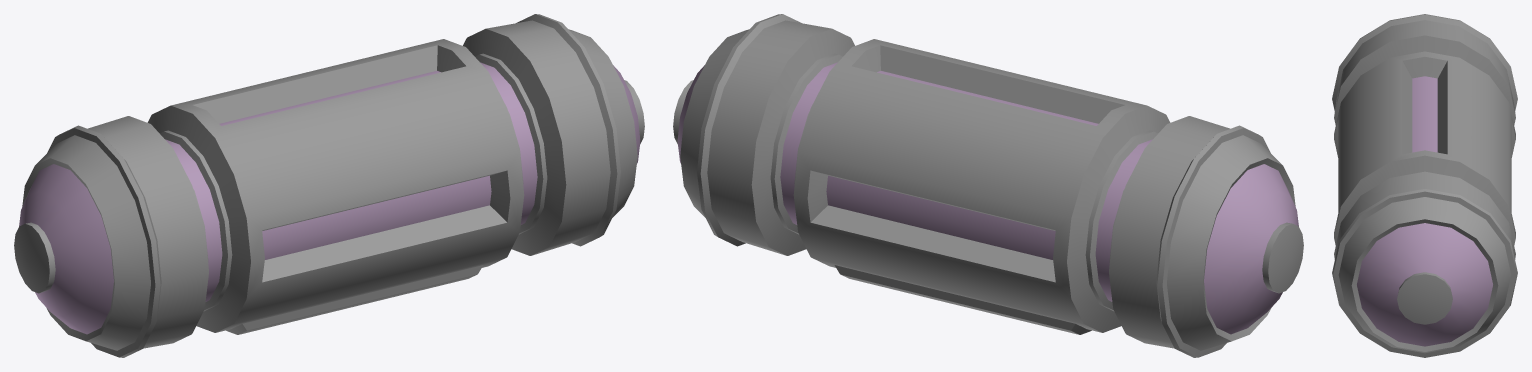
The model's file is SM_Grenade.FBX.
3 views of the same model, side by side, from view 1: azimuth 30°, elevation 25°; view 2: azimuth 150°, elevation 25°; view 3: azimuth 270°, elevation 25° (orthographic). The views are drawn at different scales.
Visible parts, largest first — view 1: SM_Grenade; view 2: SM_Grenade; view 3: SM_Grenade.
Boxes of the visible parts, left/top/right/bottom form: SM_Grenade: left=14, top=14, right=644, bottom=357; SM_Grenade: left=673, top=14, right=1303, bottom=357; SM_Grenade: left=1332, top=14, right=1517, bottom=357.
Size of the model in its own units: 30 by 10.22 by 10.22.
